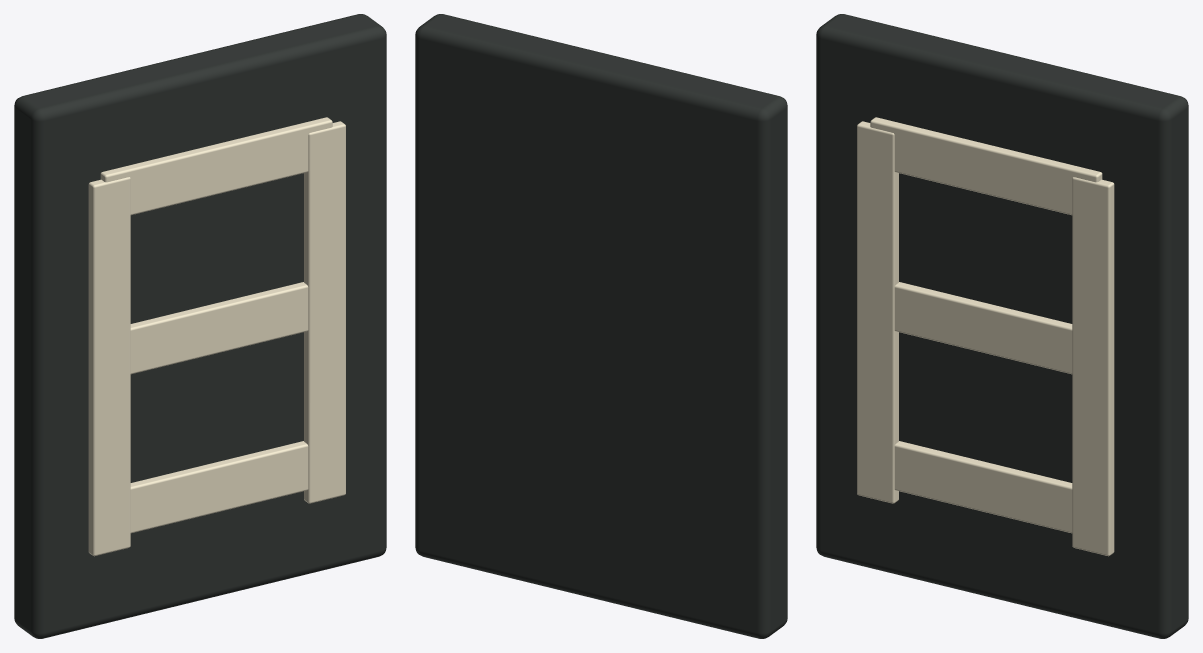
File: cricket-ground-and-pavilion-score-number-cassette-b5741b59__31352.glb
3 views of the same model, side by side, from view 1: azimuth 30°, elevation 25°; view 2: azimuth 150°, elevation 25°; view 3: azimuth 330°, elevation 25° (orthographic).
Parts seen in each view (by area): view 1: score-number-cassette; view 2: score-number-cassette; view 3: score-number-cassette.
Part boxes in pixels (bbox=[...]): score-number-cassette: bbox=[14, 14, 386, 638]; score-number-cassette: bbox=[415, 14, 787, 638]; score-number-cassette: bbox=[816, 14, 1188, 638].
Bounding box in the file's own units: 0.28 × 0.4 × 0.0445.
